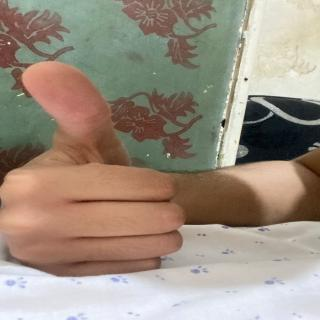ALIF: (0, 55, 228, 279)
